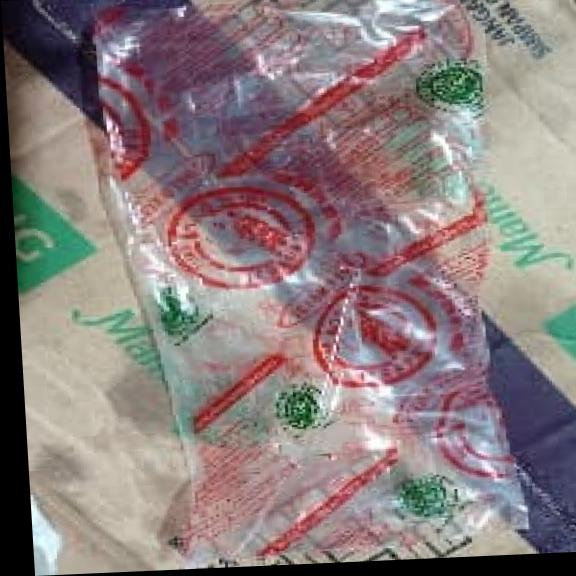Plastik: (95, 0, 523, 569)
